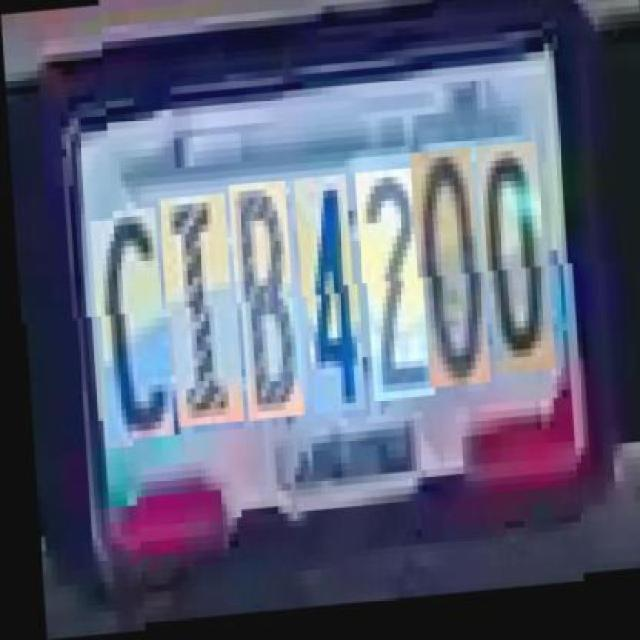2: (357, 174, 429, 408)
4: (295, 180, 360, 420)
b: (231, 184, 298, 424)
c: (90, 209, 168, 443)
i: (160, 198, 238, 430)
o: (410, 156, 484, 396), (478, 151, 550, 384)
